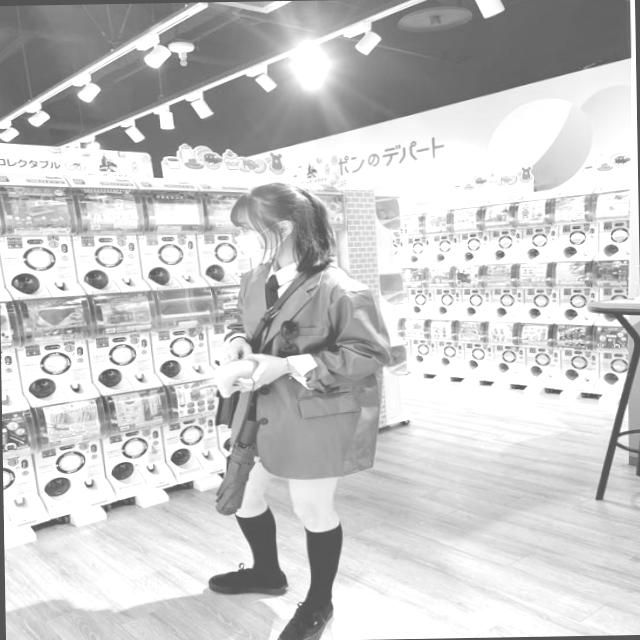blazer: (232, 264, 394, 484)
